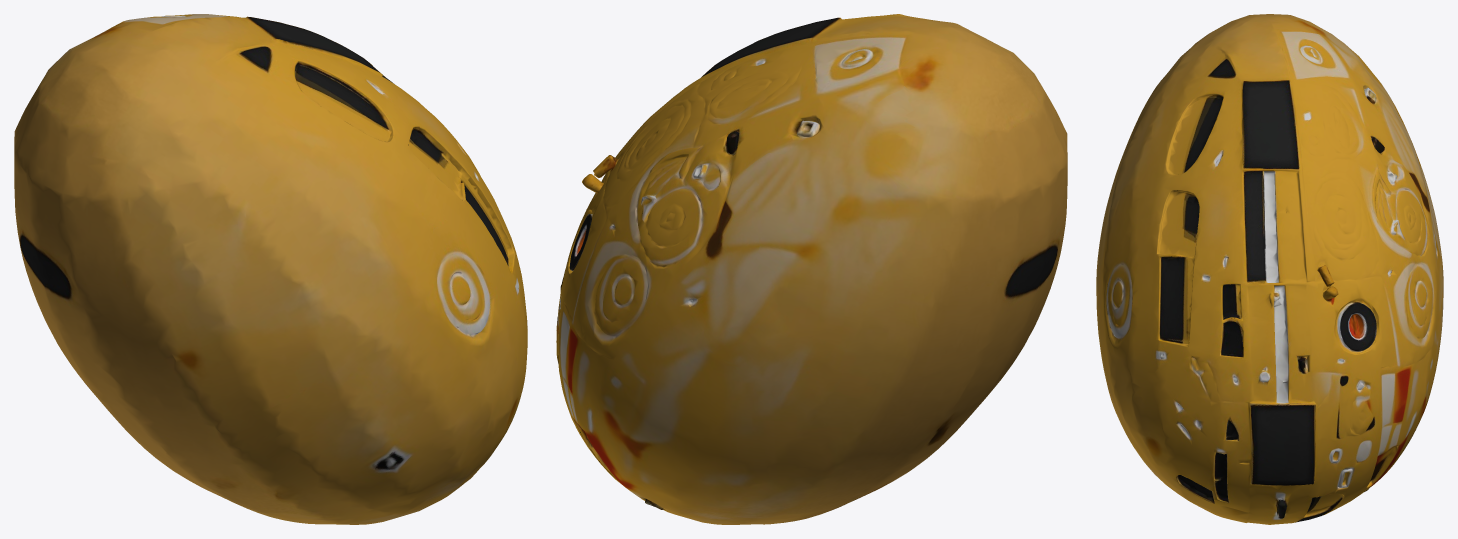
Rendered from ornate+golden+egg+3d+model+1k.glb.
3 renders of one model, left to right at view 1: azimuth 30°, elevation 25°; view 2: azimuth 150°, elevation 25°; view 3: azimuth 270°, elevation 25°, orthographic. The views are drawn at different scales.
Parts seen in each view (by area): view 1: tripo_node_808d632f-5647-4ff9-a020-adec04d2d6cd; view 2: tripo_node_808d632f-5647-4ff9-a020-adec04d2d6cd; view 3: tripo_node_808d632f-5647-4ff9-a020-adec04d2d6cd.
Boxes of the visible parts, x1,y1,x2,y2 form: tripo_node_808d632f-5647-4ff9-a020-adec04d2d6cd: [14, 14, 527, 524]; tripo_node_808d632f-5647-4ff9-a020-adec04d2d6cd: [556, 14, 1067, 524]; tripo_node_808d632f-5647-4ff9-a020-adec04d2d6cd: [1096, 14, 1443, 524].
Size of the model in its own units: 0.938 by 1 by 0.7615.
1 material, 1 textured.
